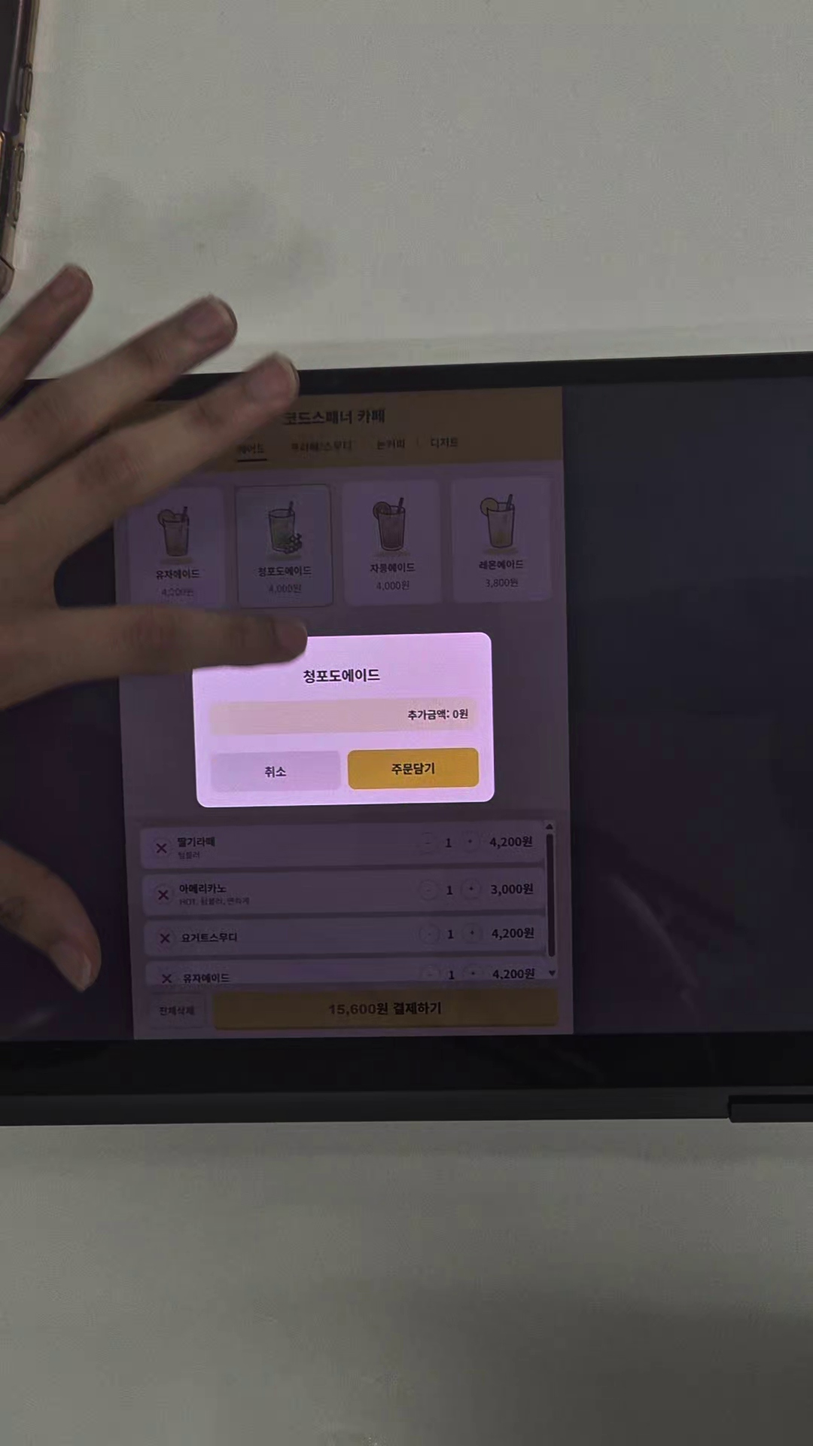action_button: (352, 748, 476, 790), (216, 752, 338, 794)
popup_modal: (191, 630, 498, 804)
